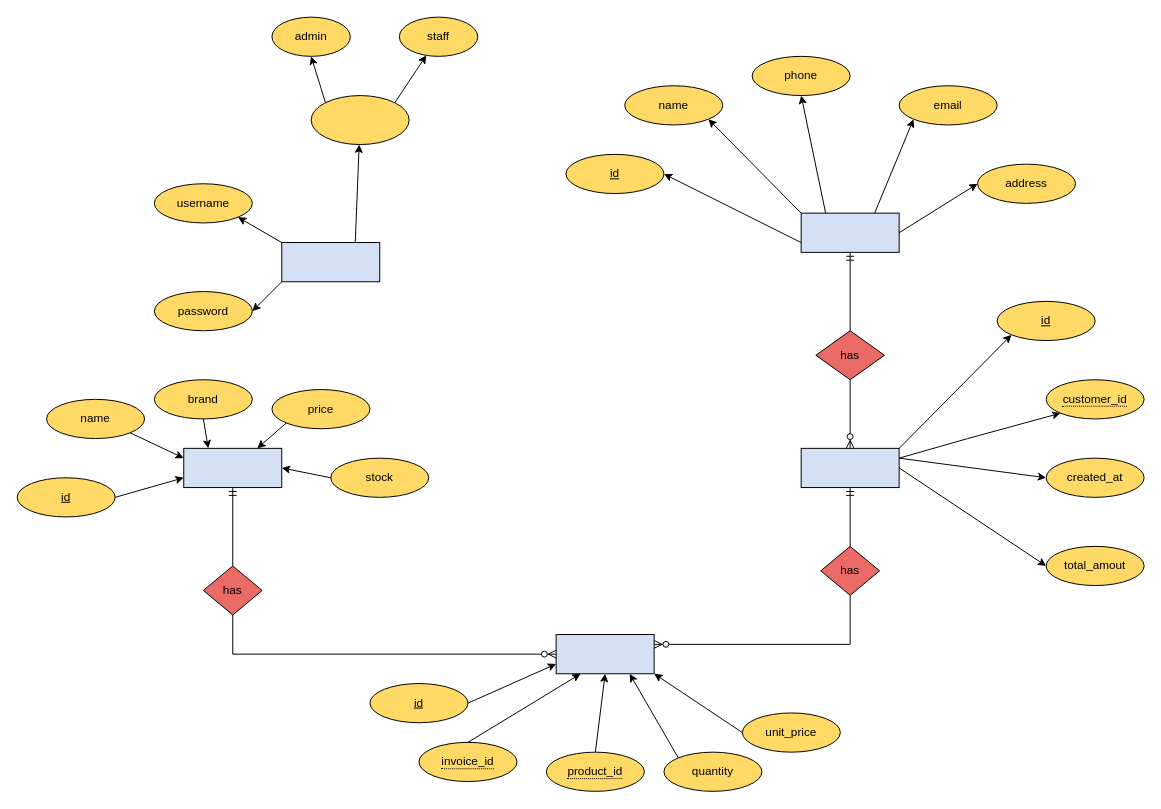
This 1161x809 diagram has some shape labels left out. The shapes that lost their labels are listed below. From the top down, each one's centre as x and y in pixels, then its label:
pixel 359 120: role
pixel 849 232: Customer
pixel 330 262: User
pixel 232 467: Product
pixel 849 467: Invoice
pixel 604 654: InvoiceDetails
